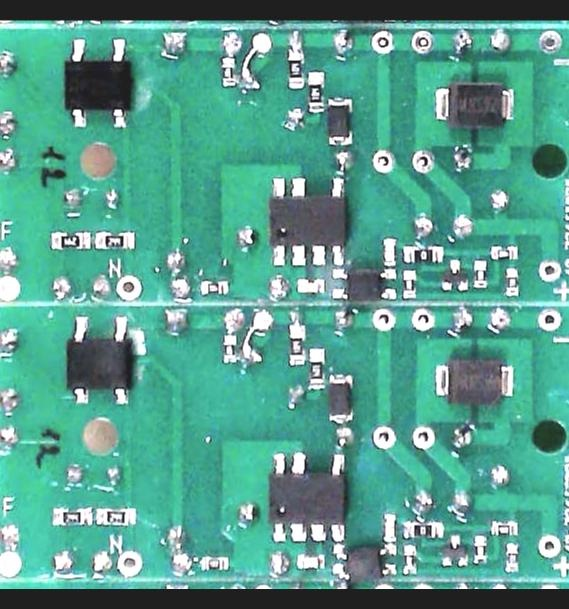chip-capacitor: (294, 276, 325, 295), (381, 511, 398, 543), (294, 553, 325, 570), (381, 235, 397, 266)
chip-resistor: (50, 506, 94, 529), (92, 229, 136, 251), (306, 69, 326, 115), (94, 507, 137, 528), (401, 519, 444, 540), (49, 229, 90, 251), (306, 344, 325, 391), (287, 323, 307, 367), (401, 244, 444, 264), (286, 46, 305, 89), (502, 540, 520, 574), (198, 278, 230, 297), (489, 243, 519, 263), (198, 554, 230, 572), (470, 534, 487, 567), (220, 56, 236, 90), (471, 258, 488, 290), (503, 266, 520, 298), (489, 519, 519, 537), (220, 334, 237, 365), (401, 270, 417, 300), (402, 544, 417, 575)
diode: (431, 355, 516, 407), (431, 81, 516, 130), (323, 95, 355, 149), (327, 370, 355, 425)
ic: (266, 173, 351, 267), (267, 452, 348, 544), (60, 36, 132, 130), (63, 314, 131, 406), (331, 542, 399, 580), (329, 267, 398, 302)
transistor: (438, 258, 470, 293), (440, 534, 468, 568)
